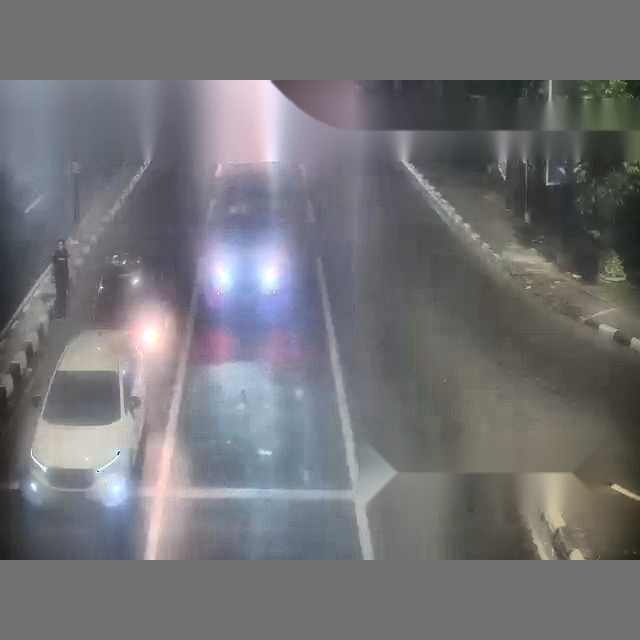Mobil: (27, 328, 146, 552)
